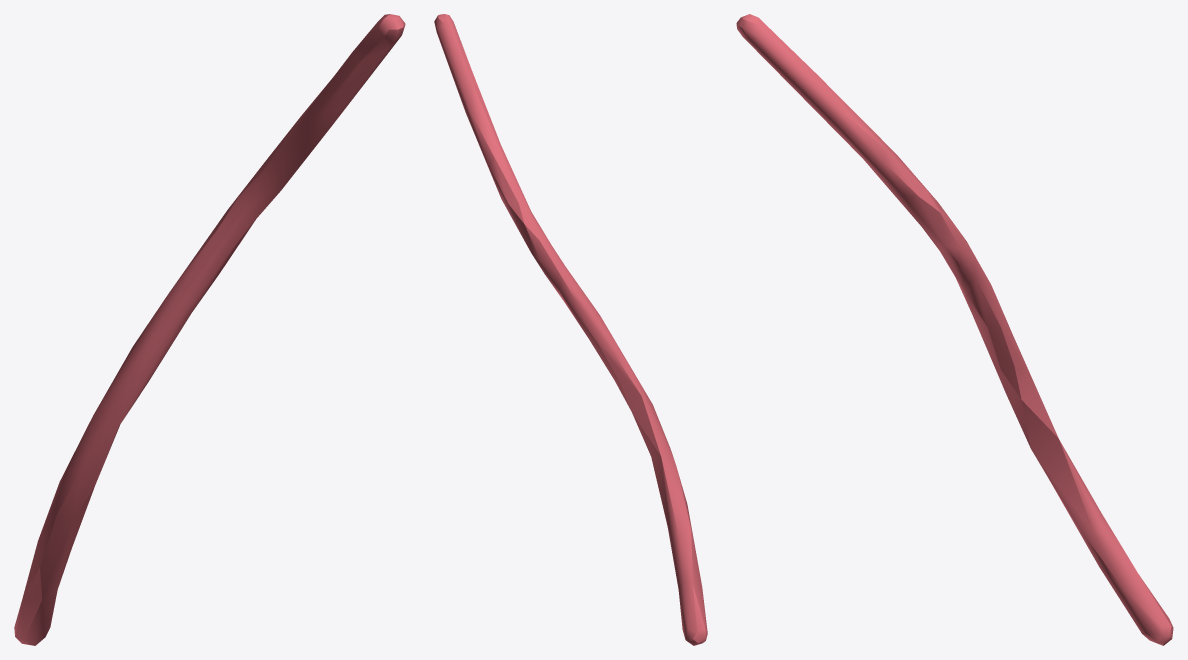
The model's file is fma51020_fj5174.glb.
3 renders of one model, left to right at view 1: azimuth 30°, elevation 25°; view 2: azimuth 210°, elevation 25°; view 3: azimuth 270°, elevation 25°, orthographic. The views are drawn at different scales.
Visible parts, largest first — view 1: FMA51020_FJ5174; view 2: FMA51020_FJ5174; view 3: FMA51020_FJ5174.
Boxes of the visible parts, left/top/right/bottom form: FMA51020_FJ5174: left=14, top=14, right=405, bottom=645; FMA51020_FJ5174: left=434, top=14, right=707, bottom=645; FMA51020_FJ5174: left=736, top=14, right=1173, bottom=645.
Size of the model in its own units: 0.00274 by 0.0112 by 0.00644.
